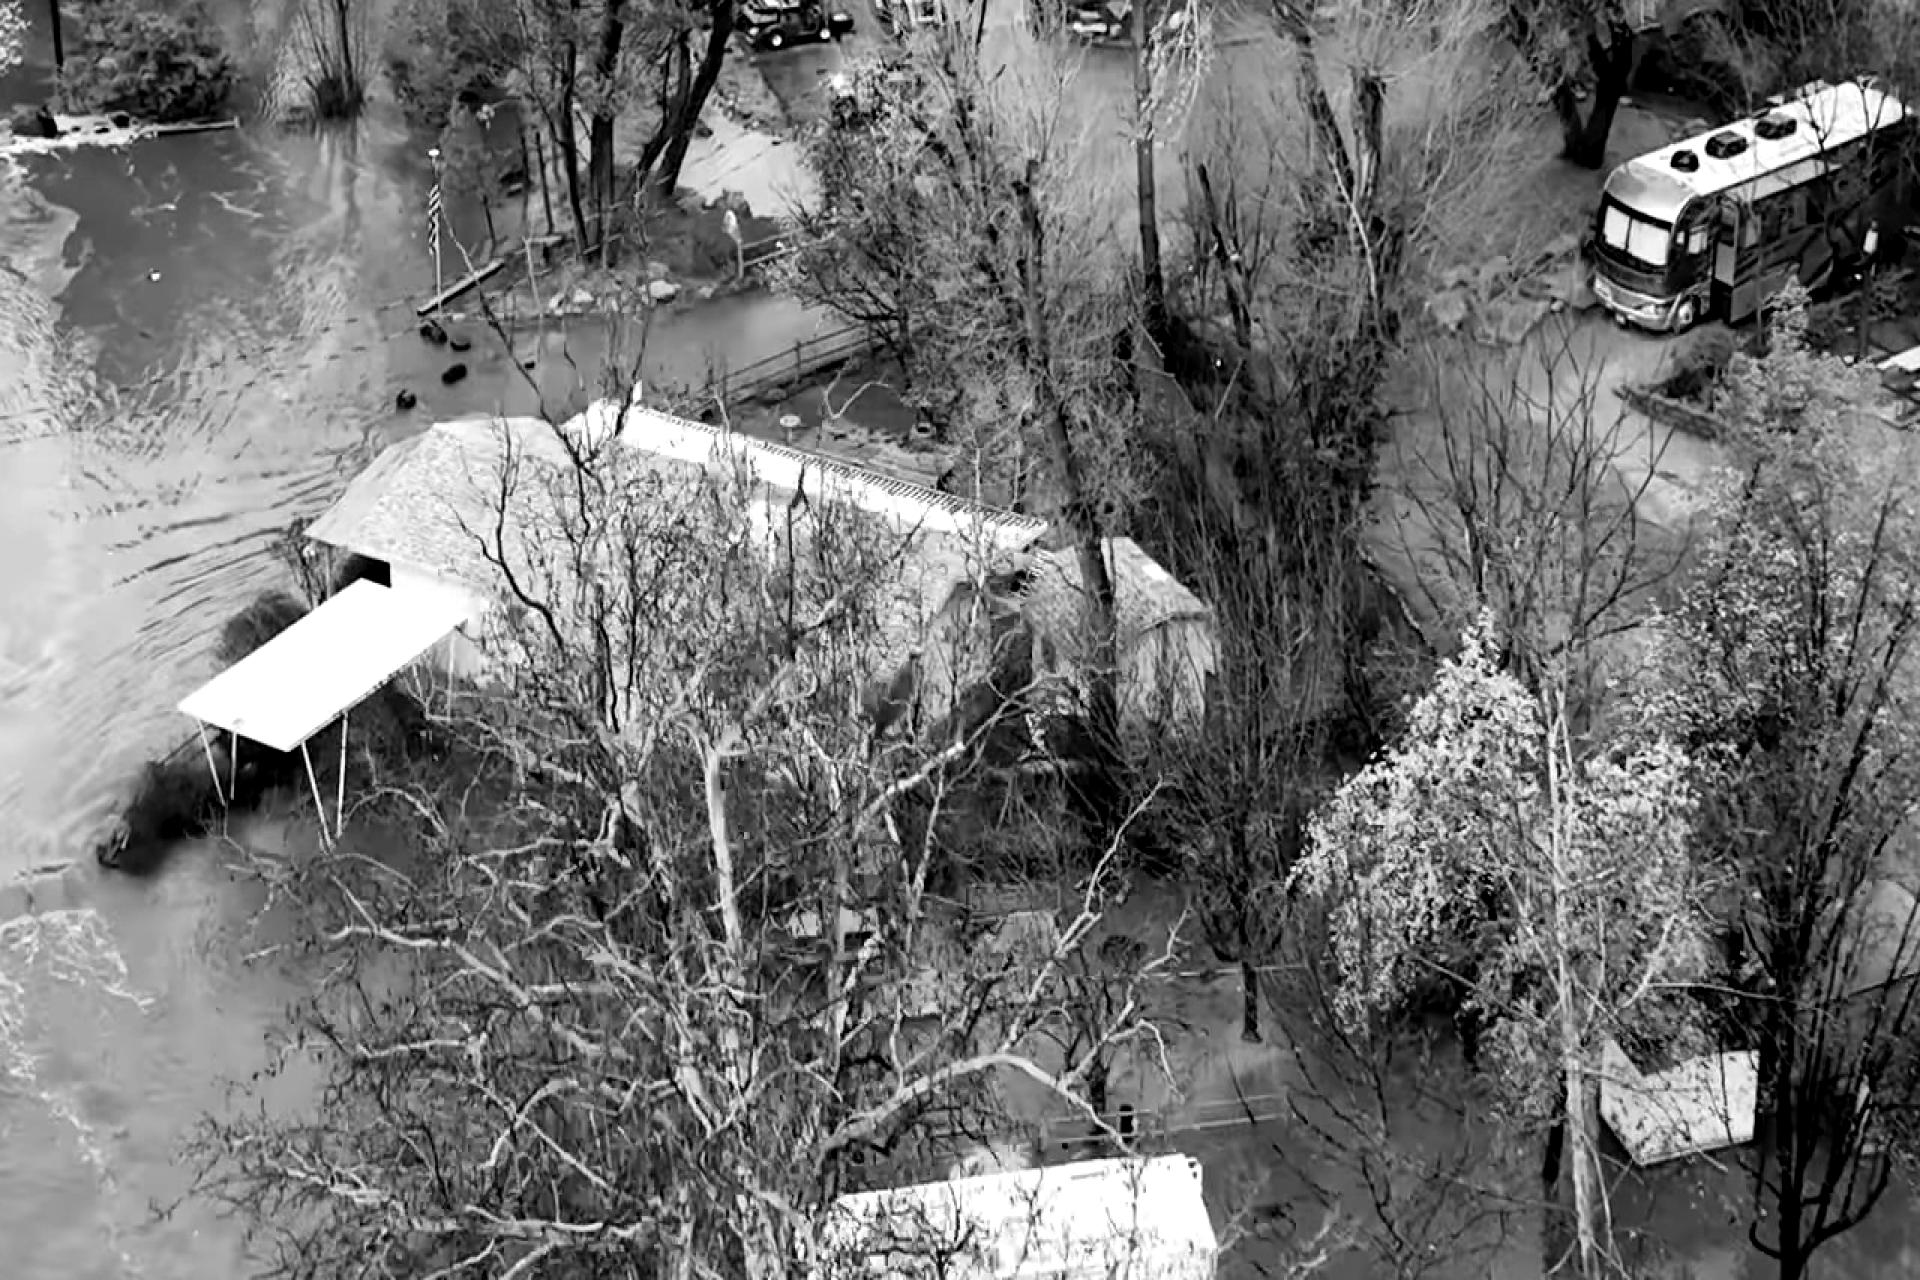House: (311, 389, 1014, 777)
Vehicle: (1589, 79, 1920, 327), (746, 1146, 1226, 1280)
